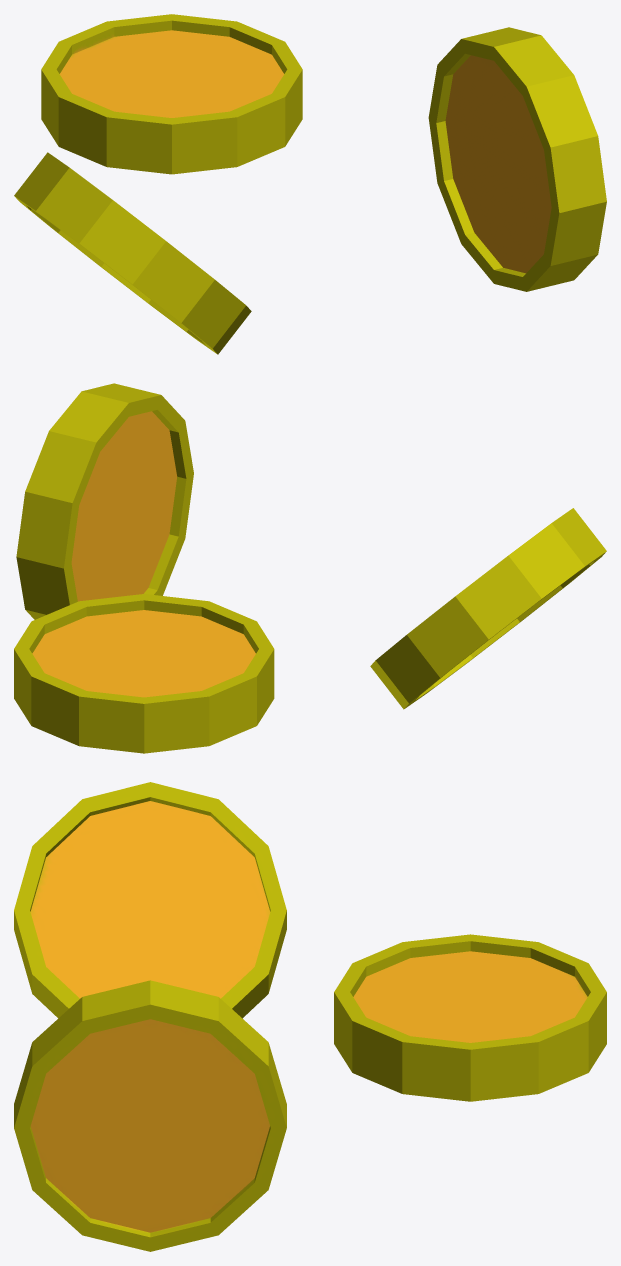
Rendered from Money.fbx.
The picture shows the model from 3 angles, top to bottom: view 1: azimuth 30°, elevation 25°; view 2: azimuth 150°, elevation 25°; view 3: azimuth 270°, elevation 25°; orthographic projection. The views are drawn at different scales.
Visible parts, largest first — view 1: Coin_03, Coin_01, Coin_02; view 2: Coin_01, Coin_03, Coin_02; view 3: Coin_03, Coin_02, Coin_01.
Part boxes in pixels (<box>): Coin_03: <box>428,27,606,291</box>; Coin_01: <box>41,14,302,174</box>; Coin_02: <box>14,152,251,354</box>; Coin_01: <box>14,594,274,753</box>; Coin_03: <box>16,383,193,619</box>; Coin_02: <box>370,508,606,709</box>; Coin_03: <box>14,980,286,1251</box>; Coin_02: <box>14,782,286,1018</box>; Coin_01: <box>334,934,606,1101</box>.
Bounding box in the file's own units: 447 × 200 × 435.
